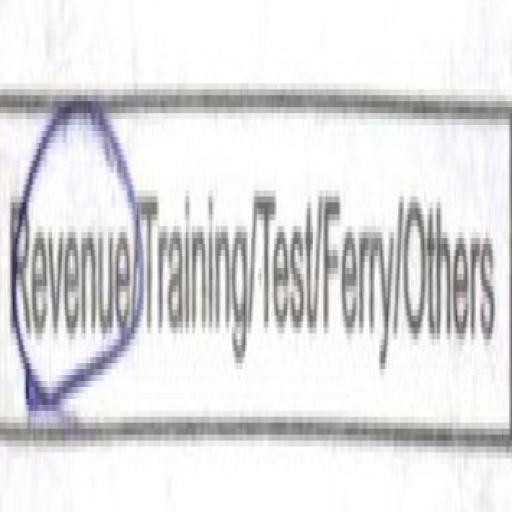check: (2, 0, 139, 458)
